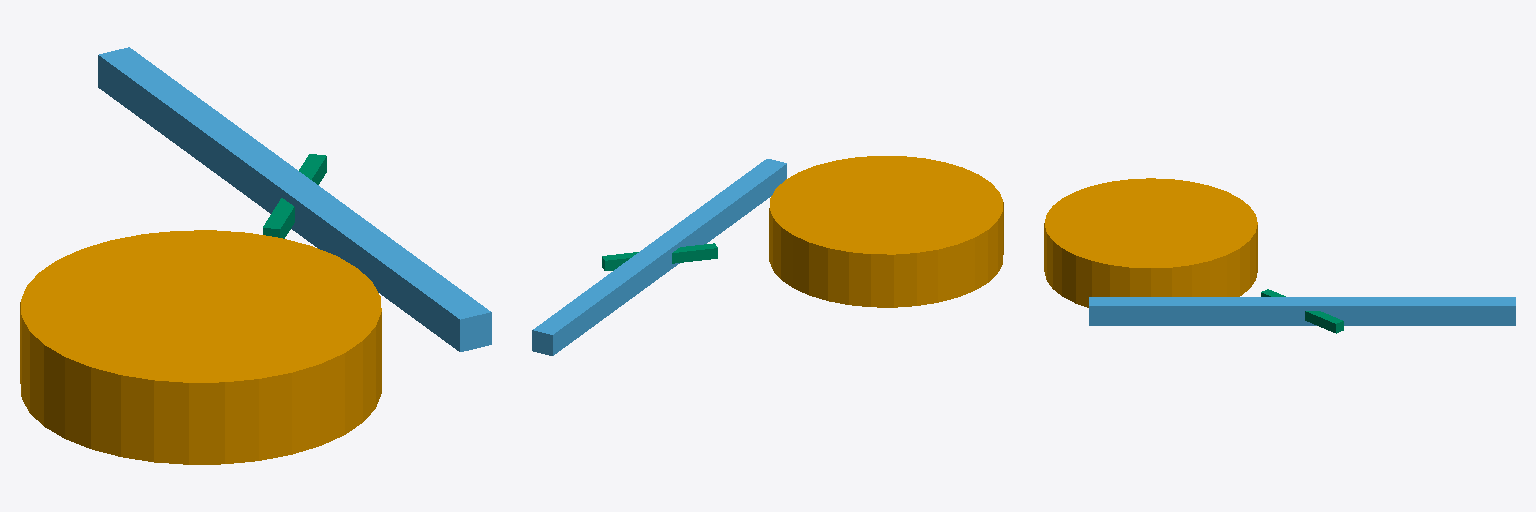
The robot description file, URDF, robot "quadrotor":
<?xml version="1.0"?>
<robot name="quadrotor">

  <!-- Base link -->
  <link name="base_link">
    <visual>
      <geometry>
        <cylinder radius="0.1" length="0.05"/>
      </geometry>
    </visual>
    <collision>
      <geometry>
        <cylinder radius="0.1" length="0.05"/>
      </geometry>
    </collision>
    <inertial>
      <mass value="1.0"/>
      <inertia ixx="0.01" ixy="0.0" ixz="0.0" iyy="0.01" iyz="0.0" izz="0.01"/>
    </inertial>
  </link>

  <!-- Arms and propellers -->
  <!-- Define positions for each arm at 45-degree angles -->
  <!-- Each arm is fixed to the base_link -->

  <!-- Arm 1 -->
  <link name="arm_1">
    <visual>
      <geometry>
        <box size="0.4 0.02 0.02"/>
      </geometry>
      <origin xyz="0.2 0 0" rpy="0 0 0.785398"/>
    </visual>
    <collision>
      <geometry>
        <box size="0.4 0.02 0.02"/>
      </geometry>
      <origin xyz="0.2 0 0" rpy="0 0 0.785398"/>
    </collision>
  </link>
  <joint name="joint_arm_1" type="fixed">
    <parent link="base_link"/>
    <child link="arm_1"/>
    <origin xyz="0 0 0" rpy="0 0 0.785398"/>
  </joint>

  <!-- Propeller 1 -->
  <link name="propeller_1">
    <visual>
      <geometry>
        <box size="0.1 0.01 0.01"/>
      </geometry>
    </visual>
    <collision>
      <geometry>
        <box size="0.1 0.01 0.01"/>
      </geometry>
    </collision>
  </link>
  <joint name="joint_propeller_1" type="revolute">
    <parent link="arm_1"/>
    <child link="propeller_1"/>
    <origin xyz="0.2 0 0" rpy="0 0 0"/>
    <axis xyz="0 0 1"/>
    <limit effort="1.0" velocity="10.0" lower="-3.14" upper="3.14"/>
  </joint>

  <!-- Repeat for other 3 arms + propellers with appropriate rotation and origin -->
  <!-- You can copy and paste the arm_1 and propeller_1 blocks and update arm_2, arm_3, arm_4 etc -->

</robot>

--- What the picture shows (computed from the rendered views, not written in the file) ---
The picture shows the robot from 3 angles, left to right: view 1: azimuth 30°, elevation 25°; view 2: azimuth 150°, elevation 25°; view 3: azimuth 270°, elevation 25°; orthographic projection.
Model quadrotor with 3 links and 2 joints (1 revolute, 1 fixed), rooted at base_link, posed all joints at 0.
Visible links, largest first — view 1: base_link, arm_1, propeller_1; view 2: base_link, arm_1, propeller_1; view 3: base_link, arm_1, propeller_1.
Boxes of the visible links, left/top/right/bottom form: base_link: left=20, top=230, right=381, bottom=464; arm_1: left=98, top=47, right=491, bottom=351; propeller_1: left=263, top=154, right=326, bottom=238; base_link: left=769, top=156, right=1003, bottom=307; arm_1: left=532, top=159, right=786, bottom=355; propeller_1: left=602, top=243, right=717, bottom=270; base_link: left=1044, top=178, right=1257, bottom=307; arm_1: left=1089, top=297, right=1515, bottom=325; propeller_1: left=1261, top=289, right=1343, bottom=333.
Size in the robot's own frame: 0.2803 by 0.4414 by 0.05 metres.
Geometry: primitives only (box / cylinder / sphere), no mesh files.
